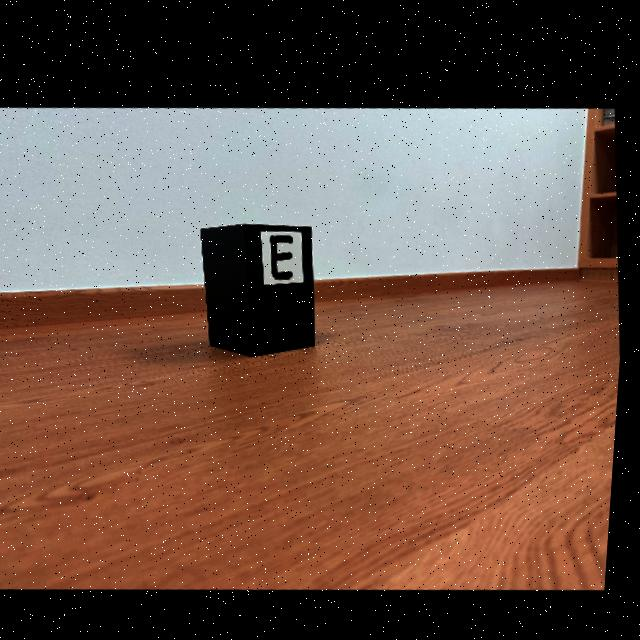E: (272, 230, 296, 273)
